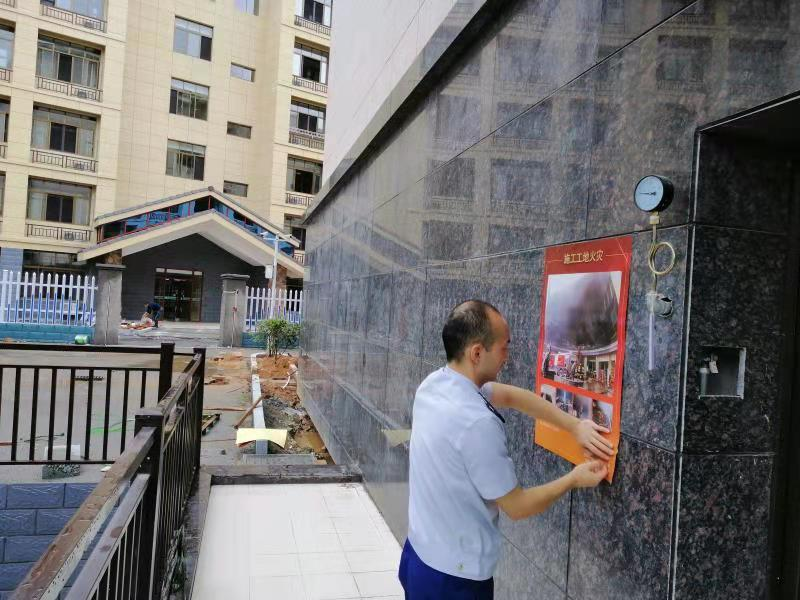bill: (530, 231, 634, 481)
